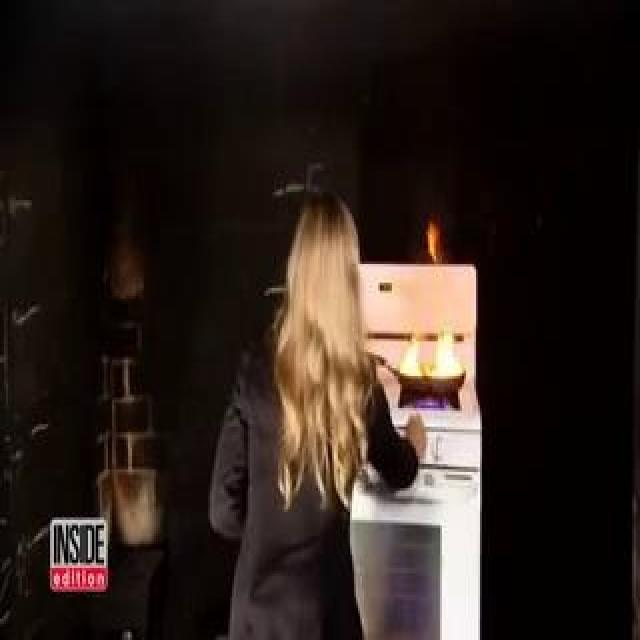Fire: (72, 90, 430, 344)
